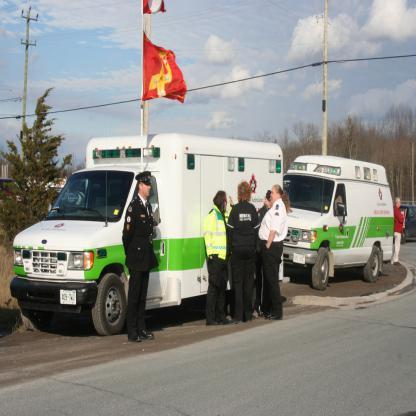Ambulance - v1 Ambulance last generate: (11, 128, 287, 336), (280, 155, 396, 287)
